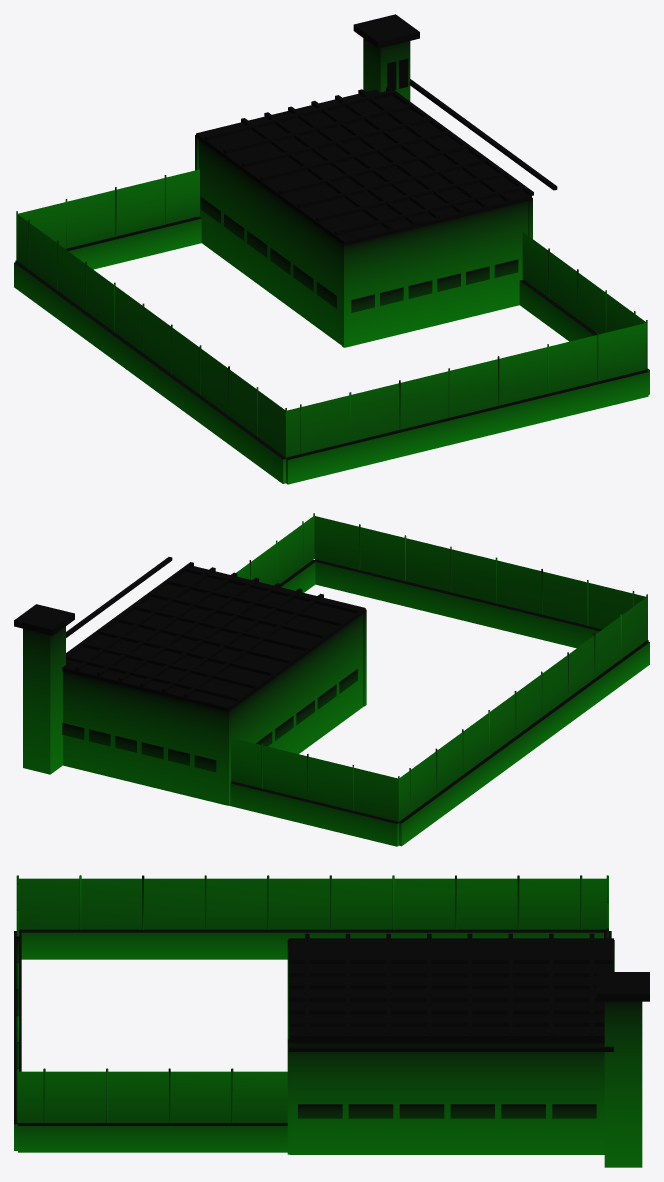
Rendered from prison.glb.
3 renders of one model, top to bottom at view 1: azimuth 30°, elevation 25°; view 2: azimuth 150°, elevation 25°; view 3: azimuth 270°, elevation 25°, orthographic. The views are drawn at different scales.
Parts seen in each view (by area): view 1: lod0; view 2: lod0; view 3: lod0.
Boxes of the visible parts, left/top/right/bottom form: lod0: left=14, top=14, right=649, bottom=484; lod0: left=14, top=513, right=649, bottom=846; lod0: left=14, top=875, right=649, bottom=1167.
Size of what is drawn, in the model's own units: 32.45 by 12.45 by 40.65.
